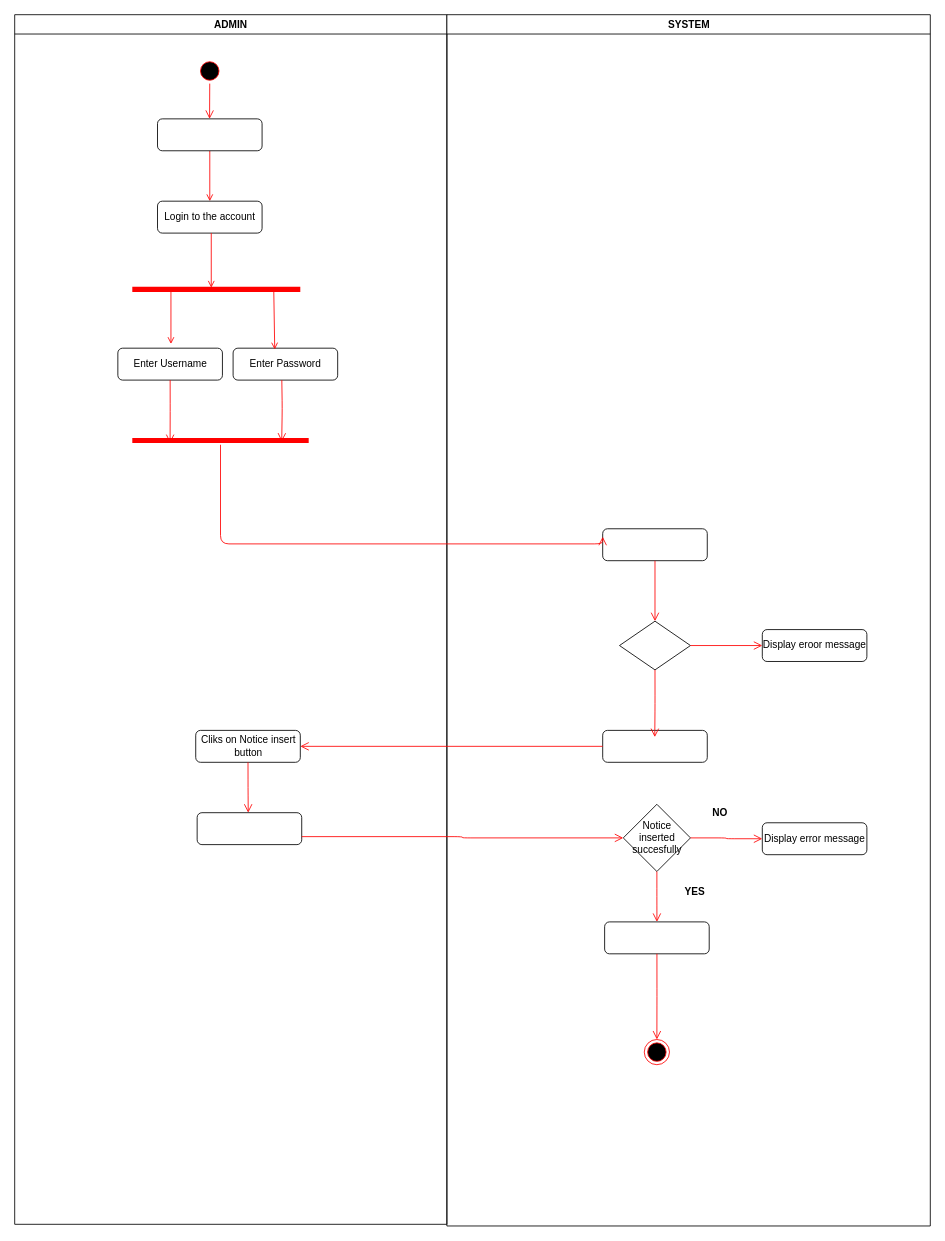
Image size: 945x1241. Some labels were removed from this diagram. The shapes that lost their labels are listed below. From the top down, each one's box as (x1, y1, x2, y2) in pixels, then its label:
(157, 118, 262, 151): Visit website
(602, 528, 707, 561): Validate Login
(602, 730, 707, 762): Log in to the site
(196, 812, 302, 845): Insert a notice to the system
(604, 921, 709, 954): Display Notice
